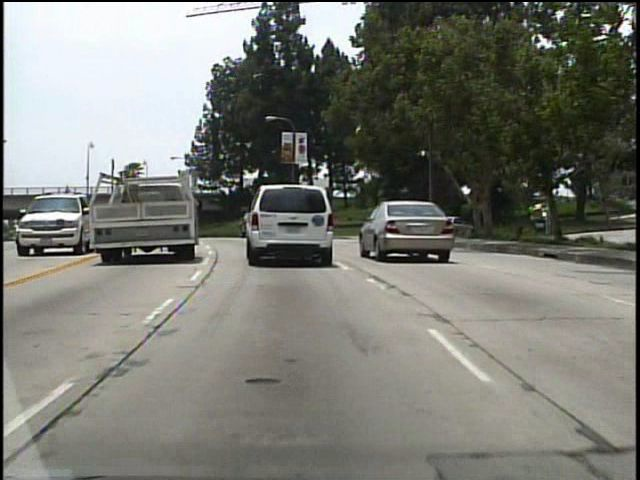person: (62, 181, 73, 201)
